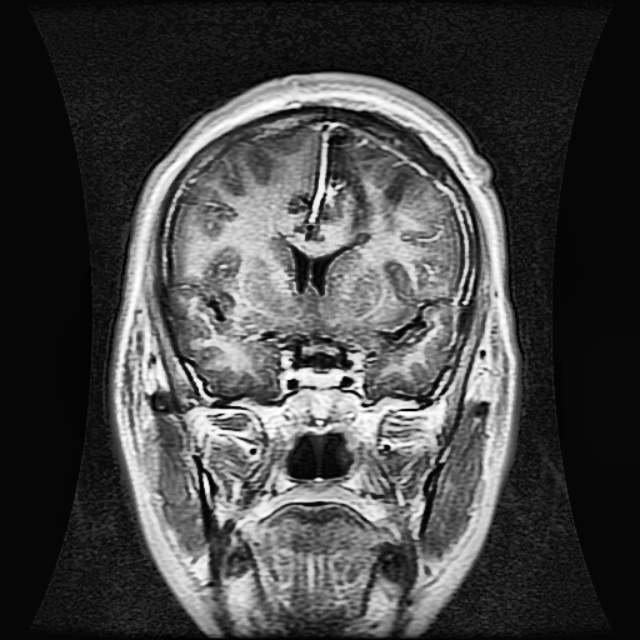Meningioma: (319, 123, 379, 213)
